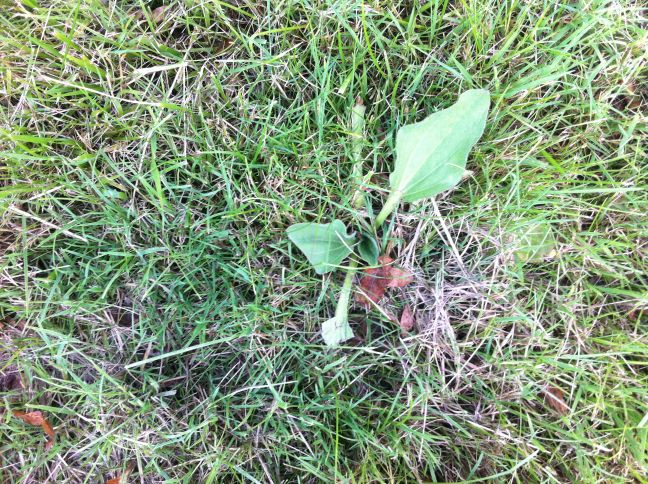weed1: (284, 85, 492, 348)
